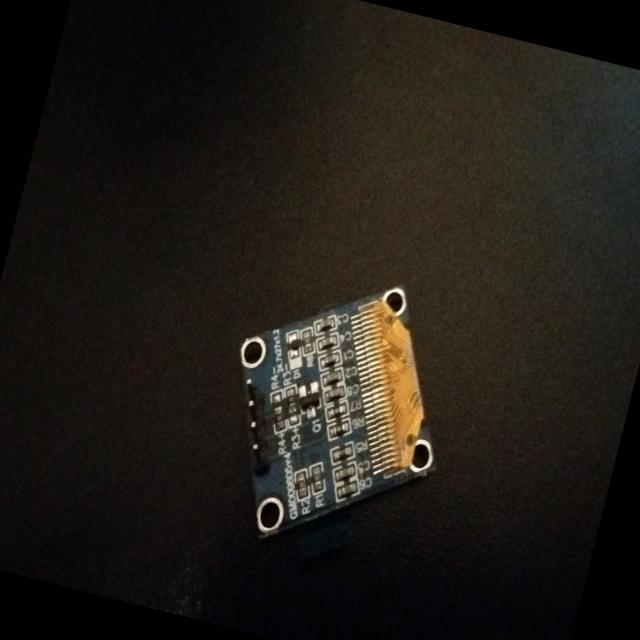oled: (196, 230, 503, 580)
